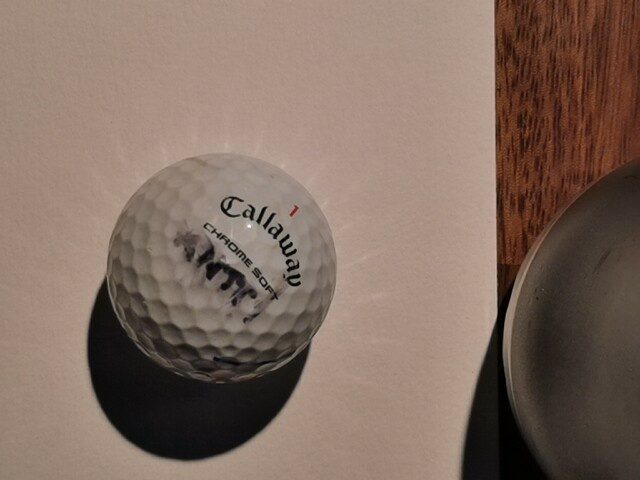Ball: (107, 152, 337, 385)
Callaway: (219, 196, 302, 287)
